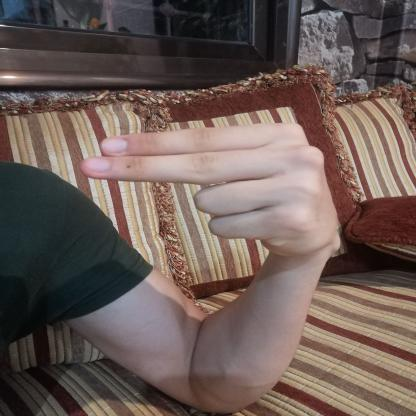AYN: (66, 113, 360, 266)
